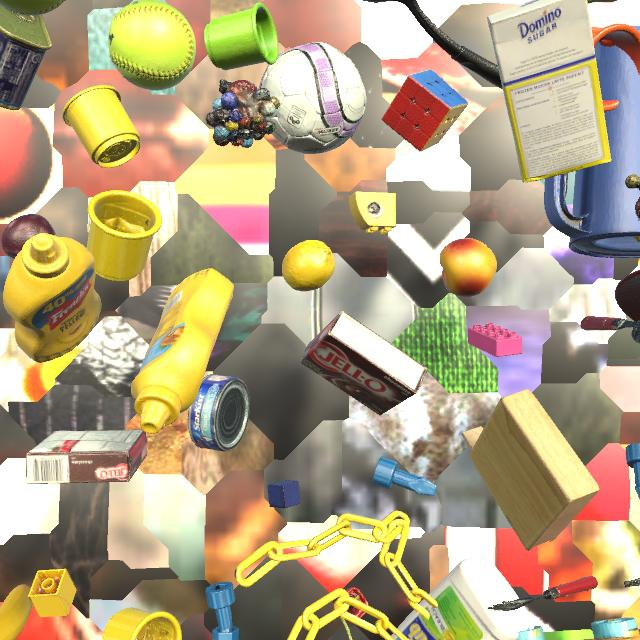ycb_004_sugar_box: (487, 0, 611, 182)
ycb_006_mustard_bottle: (131, 268, 234, 434), (3, 233, 101, 363)
ycb_007_tuna_fish_can: (188, 374, 250, 452)
ycb_008_pudding_box: (300, 311, 427, 416), (25, 430, 147, 485)
ycb_010_potted_meat_can: (0, 5, 52, 110)
ycb_011_banana: (0, 584, 32, 640), (587, 0, 618, 4)
ycb_014_lemon: (282, 240, 335, 291)
ycb_015_peach: (439, 238, 497, 297)
ycb_018_plum: (1, 214, 56, 259)
